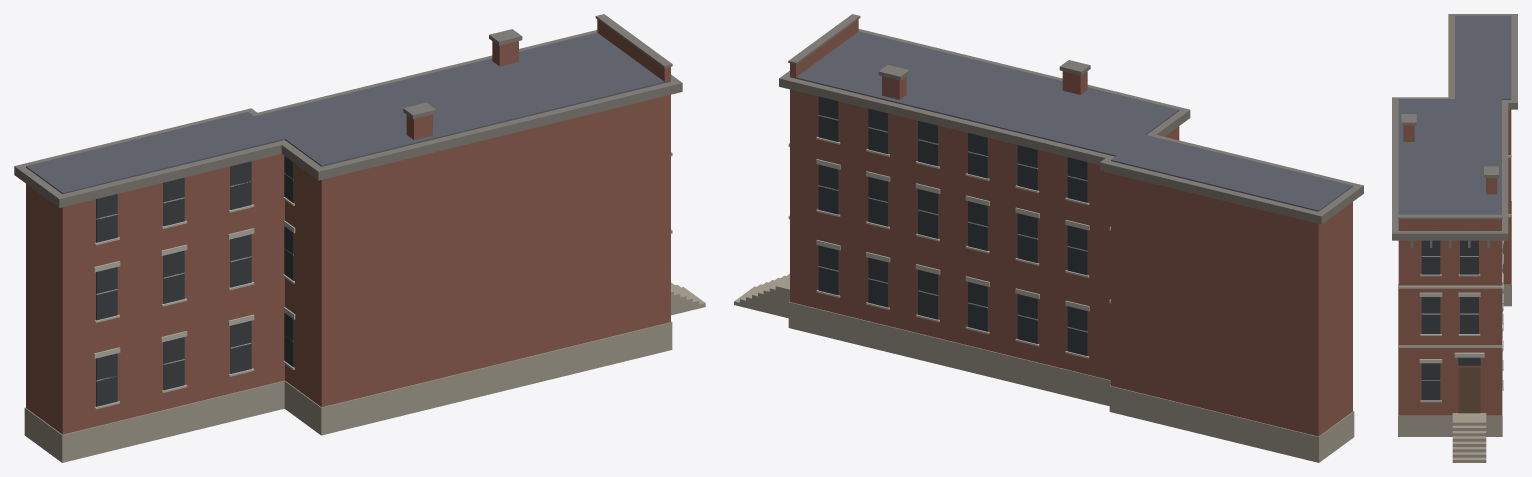
Rendered from house_2005_prairie__draft_1904.glb.
The picture shows the model from 3 angles, left to right: view 1: azimuth 30°, elevation 25°; view 2: azimuth 150°, elevation 25°; view 3: azimuth 270°, elevation 25°; orthographic projection. The views are drawn at different scales.
Visible parts, largest first — view 1: house_2005_prairie__draft_1904; view 2: house_2005_prairie__draft_1904; view 3: house_2005_prairie__draft_1904.
Boxes of the visible parts, box(x1,y1,x2,y2) form: house_2005_prairie__draft_1904: box(14, 14, 705, 462); house_2005_prairie__draft_1904: box(734, 14, 1363, 462); house_2005_prairie__draft_1904: box(1392, 14, 1517, 462).
Bounding box in the file's own units: 30.65 × 13.34 × 6.7.
